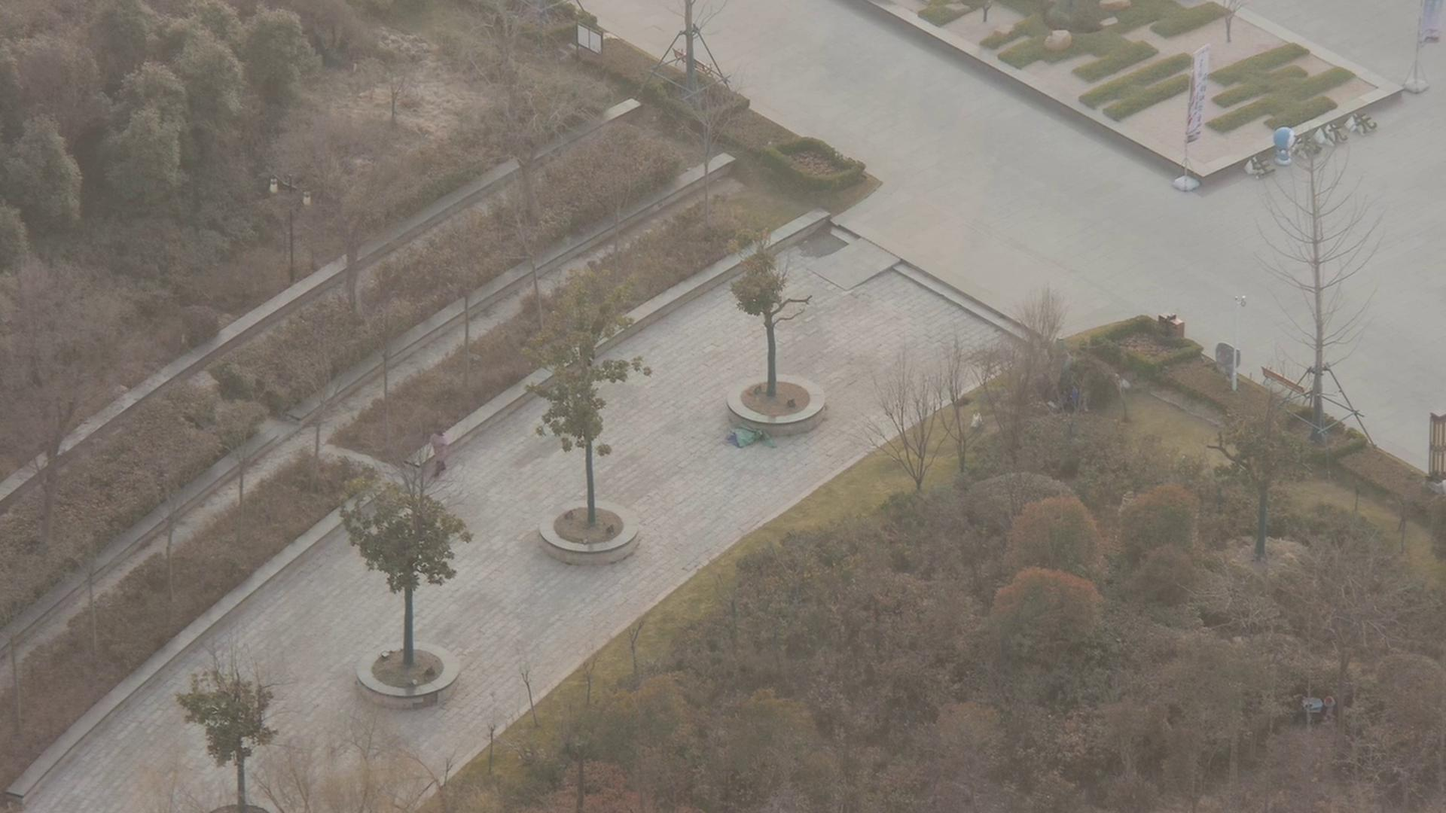human: (428, 416, 462, 483)
